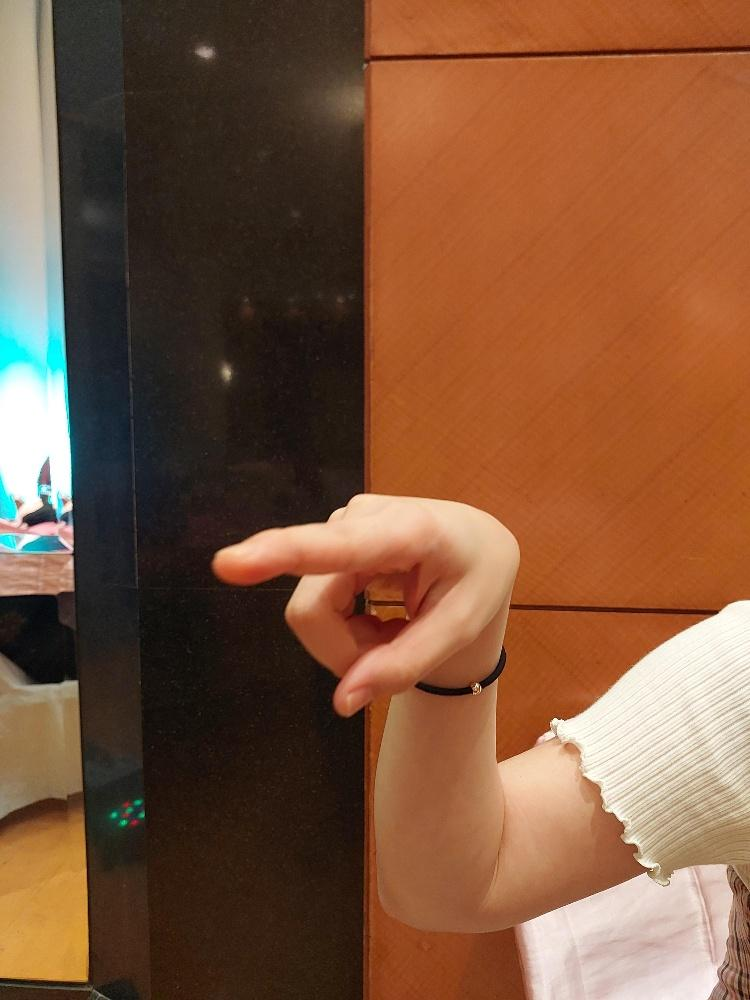z: (206, 485, 520, 715)
